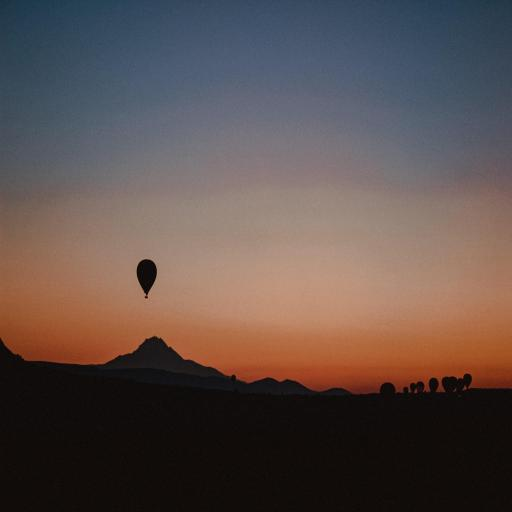hot air ballon: (135, 256, 158, 300)
